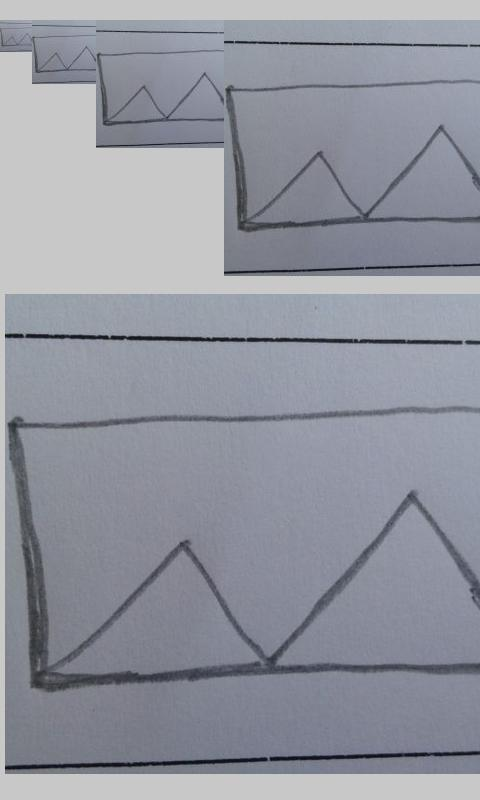image_view: (8, 405, 475, 687), (228, 75, 478, 233), (98, 50, 223, 124), (33, 34, 96, 73), (1, 26, 32, 47)
